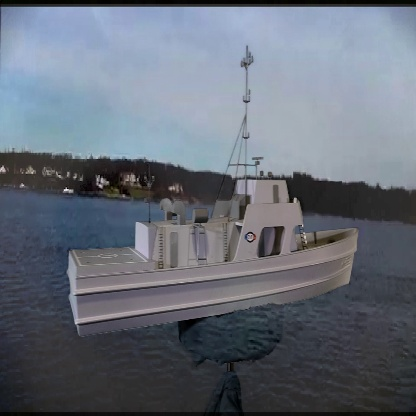YP689: (65, 45, 359, 342)
